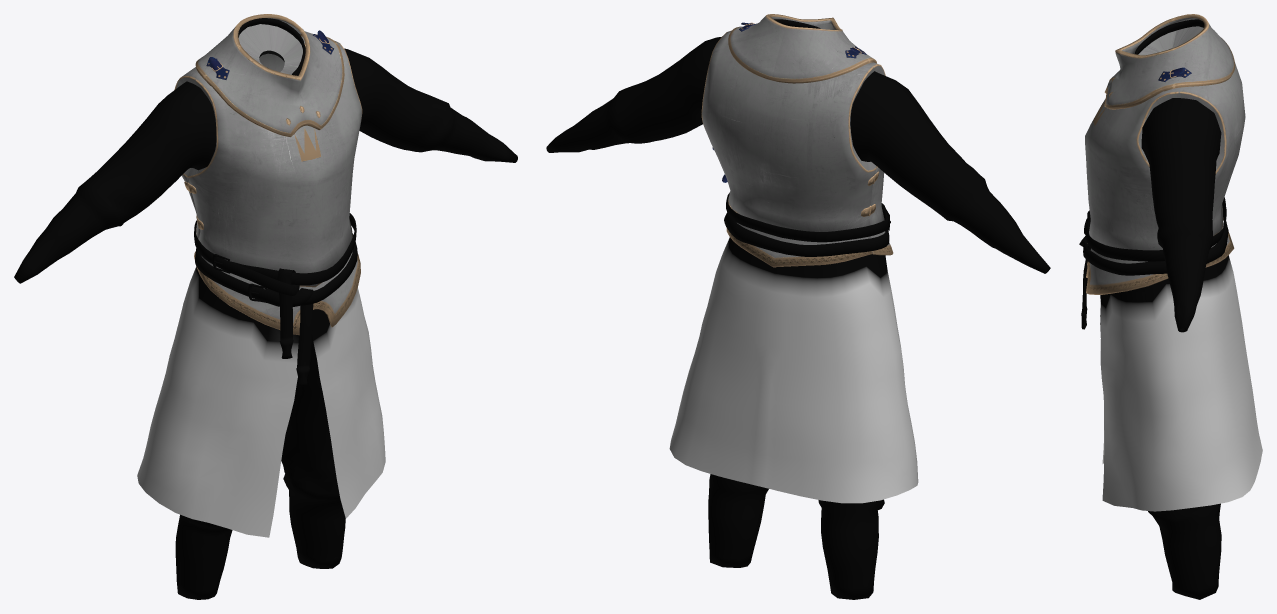
Rendered from swan_knight_armor_2b_t1_slim.fbx.
3 views of the same model, side by side, from view 1: azimuth 30°, elevation 25°; view 2: azimuth 150°, elevation 25°; view 3: azimuth 270°, elevation 25° (orthographic). The views are drawn at different scales.
Visible parts, largest first — view 1: swan_knight_armor_2b_t1_slim.0, swan_knight_armor_2b_t1_slim.1; view 2: swan_knight_armor_2b_t1_slim.0, swan_knight_armor_2b_t1_slim.1; view 3: swan_knight_armor_2b_t1_slim.0, swan_knight_armor_2b_t1_slim.1.
Boxes of the visible parts, x1,y1,x2,y2 form: swan_knight_armor_2b_t1_slim.0: (14, 18, 517, 599); swan_knight_armor_2b_t1_slim.1: (174, 14, 362, 335); swan_knight_armor_2b_t1_slim.0: (546, 19, 1050, 599); swan_knight_armor_2b_t1_slim.1: (701, 14, 893, 267); swan_knight_armor_2b_t1_slim.0: (1079, 19, 1262, 599); swan_knight_armor_2b_t1_slim.1: (1085, 14, 1245, 294).
Bounding box in the file's own units: 1.3 × 0.424 × 1.38.
